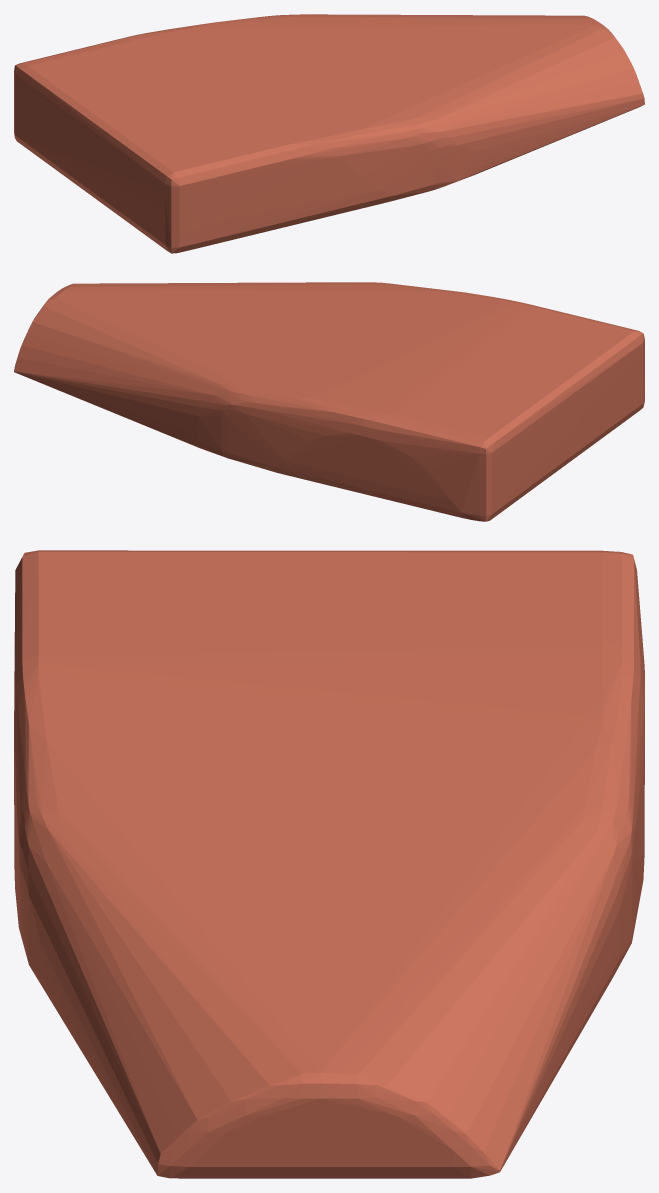
Rendered from right-tarsus-0_part_9.obj.
3 views of the same model, one above another, from view 1: azimuth 30°, elevation 25°; view 2: azimuth 150°, elevation 25°; view 3: azimuth 270°, elevation 25° (orthographic). The views are drawn at different scales.
Size of the model in its own units: 0.1145 by 0.0172 by 0.0628.
